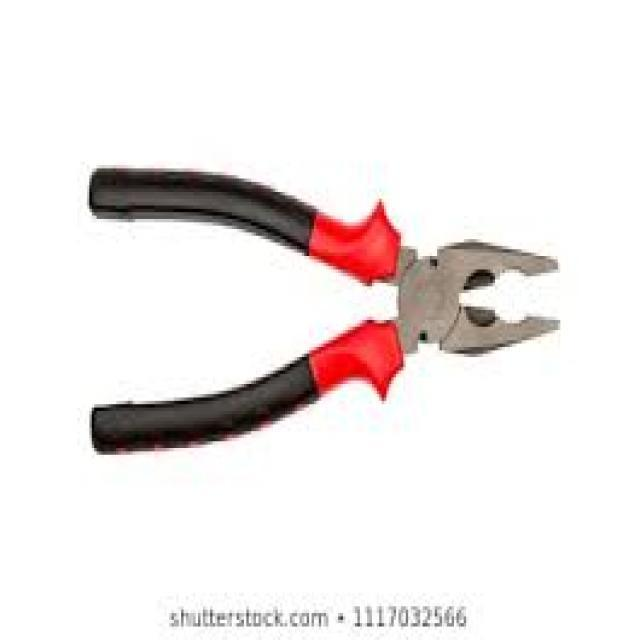pliers: (71, 138, 569, 460)
